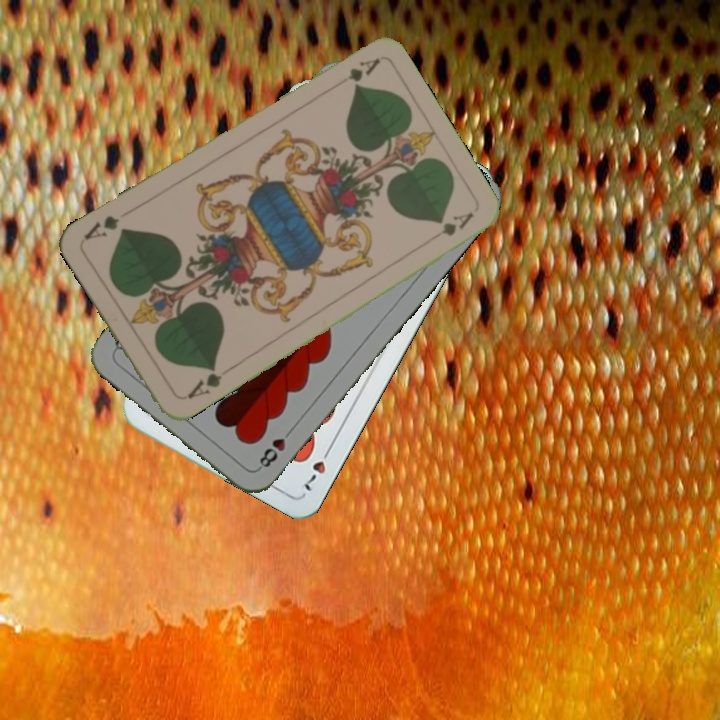GA: (183, 361, 225, 402), (344, 54, 382, 85)
H7: (300, 441, 335, 495)
H8: (254, 423, 296, 472)
